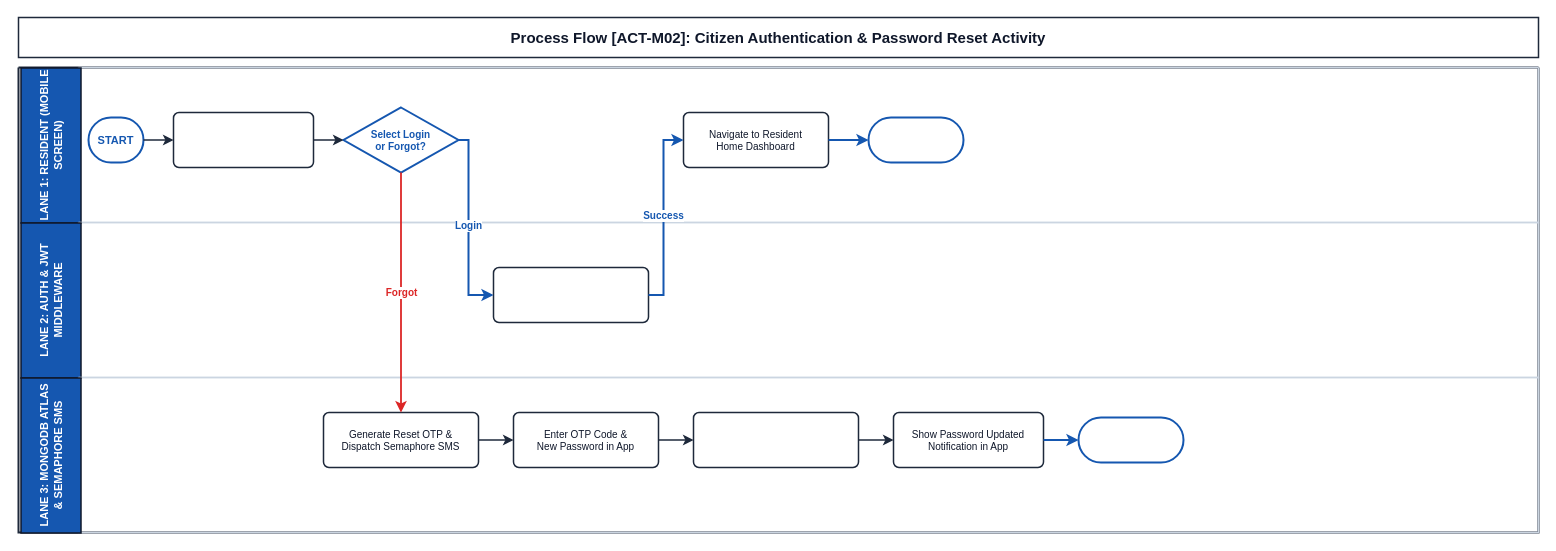
Image size: 1556x551. Some labels were removed from this diagram. Each missing label, with the centre of its shape:
Bcrypt Hash New Password & Update MongoDB Record: (775,439)
END (Logged In): (915,139)
END (Reset Done): (1130,439)
Input Phone / Email & Password in App: (243,139)
Verify Bcrypt Password & Issue JWT Token: (570,294)
